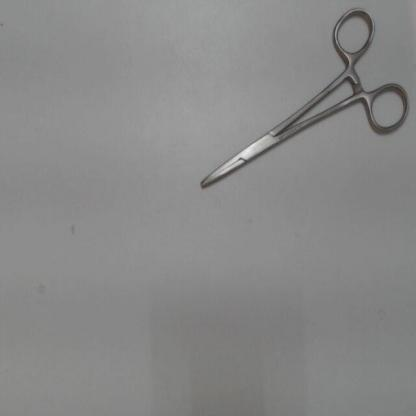Mayo Needle Holder: (190, 3, 414, 200)
